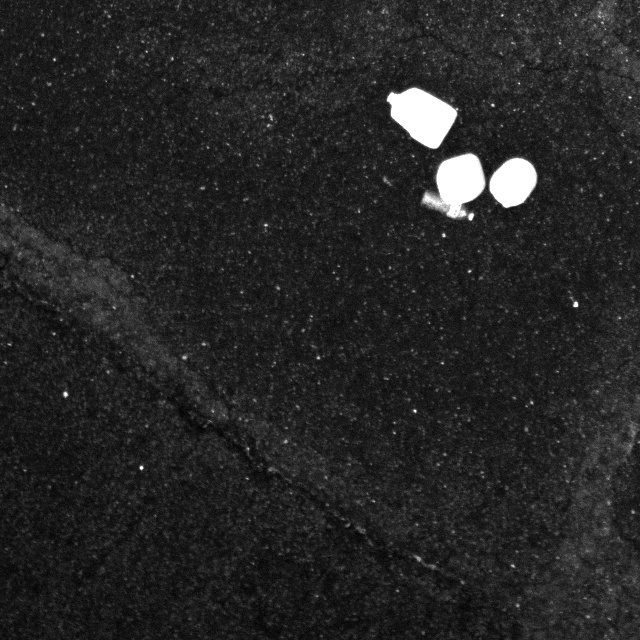bottle: (418, 188, 478, 224)
can: (378, 82, 464, 154), (483, 152, 540, 211), (433, 150, 487, 206)
